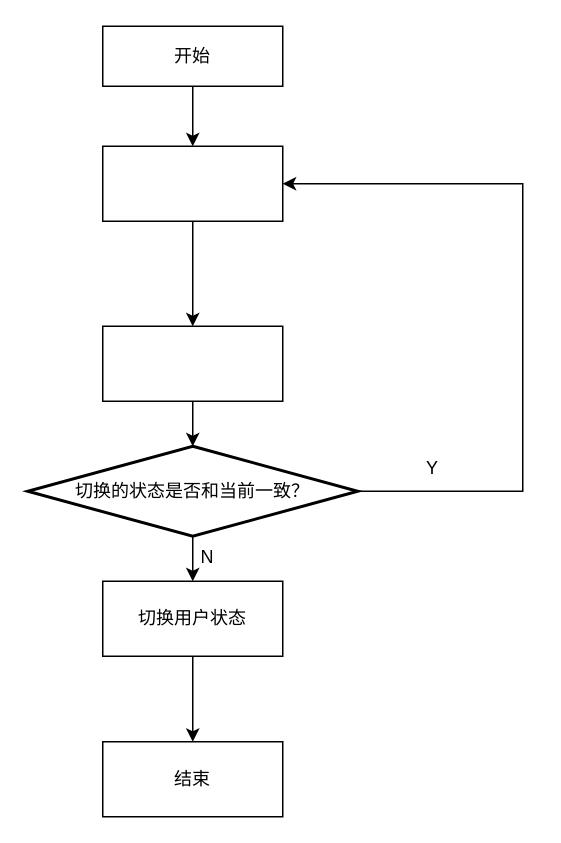
Some shapes in this 561 by 843 pixel diagram are drawn without their labels. Each missing label, with the centre of its shape:
切换账户状态: point (192, 363)
锁定/解锁账户: point (192, 183)
